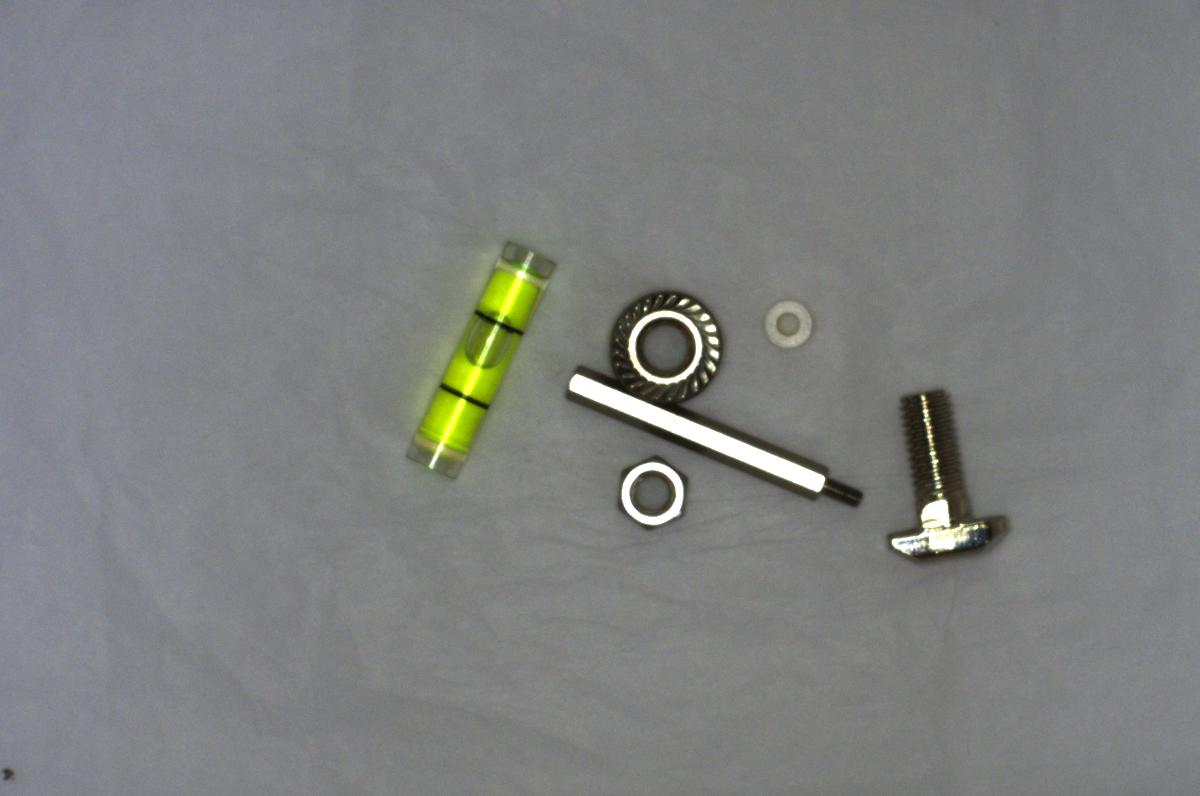Flange nut: (602, 282, 723, 399)
Hexagon nut: (610, 445, 694, 533)
Hexagonal steel column: (562, 367, 870, 515)
Horizontal bubble: (388, 235, 552, 474)
Plastic cushion pillar: (761, 292, 819, 355)
T-shaped screw: (873, 380, 1020, 569)
